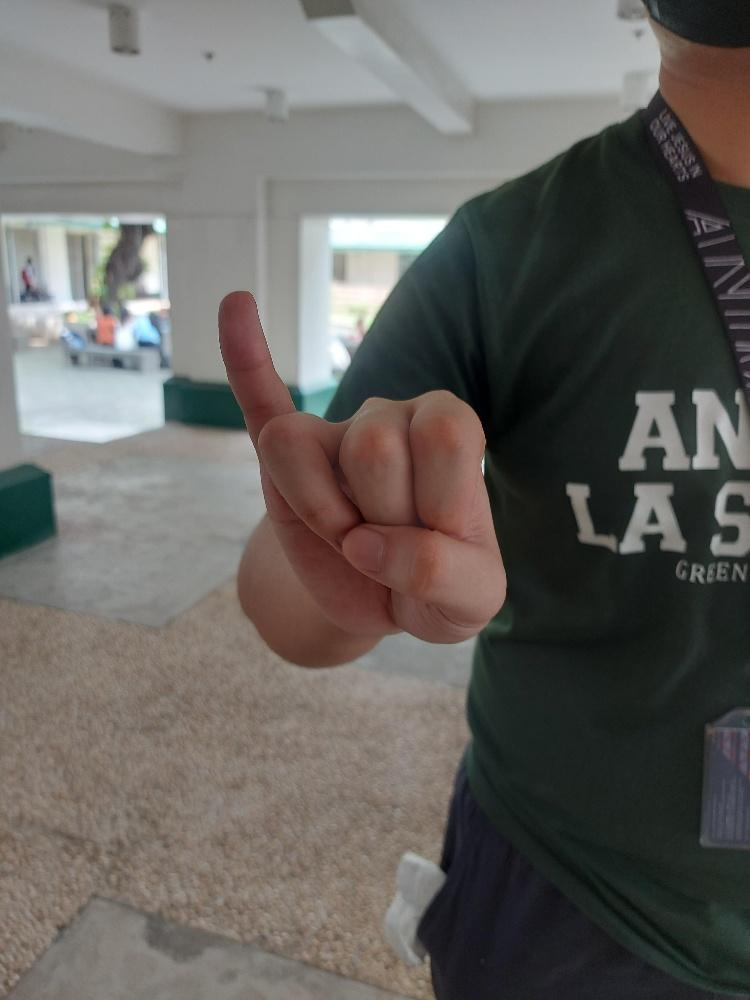i: (211, 286, 511, 648)
